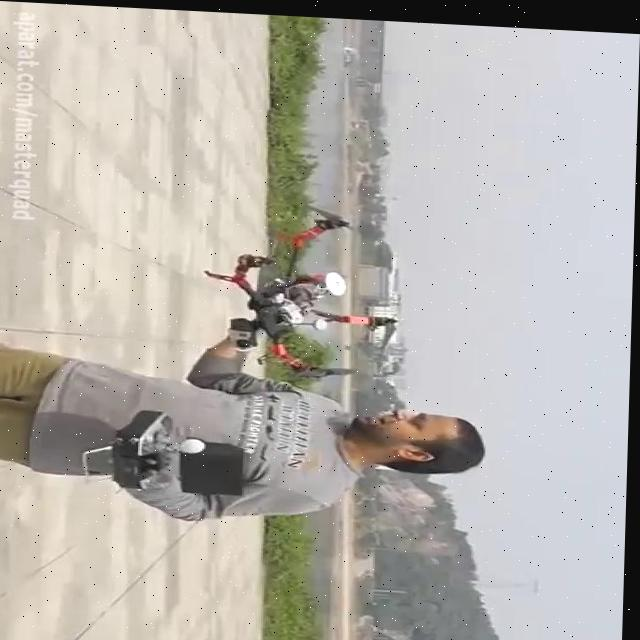drone: (206, 196, 414, 380)
